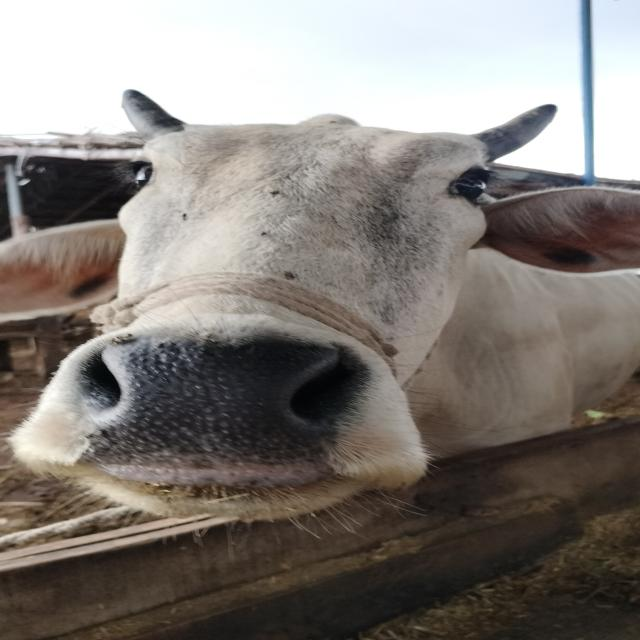muzzles: (67, 317, 375, 487)
